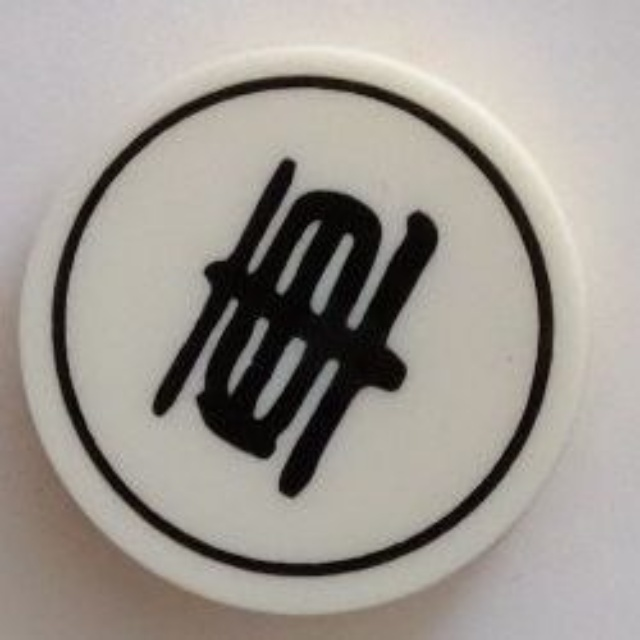black_xe: (13, 41, 597, 623)
